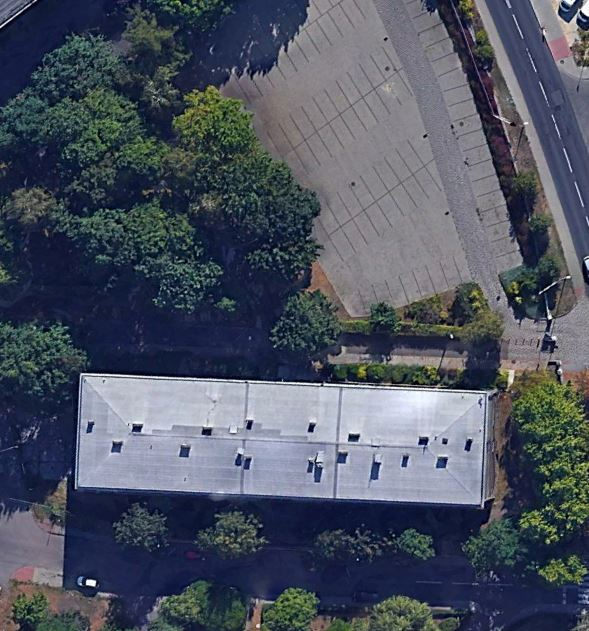block of flats: (72, 370, 501, 522)
